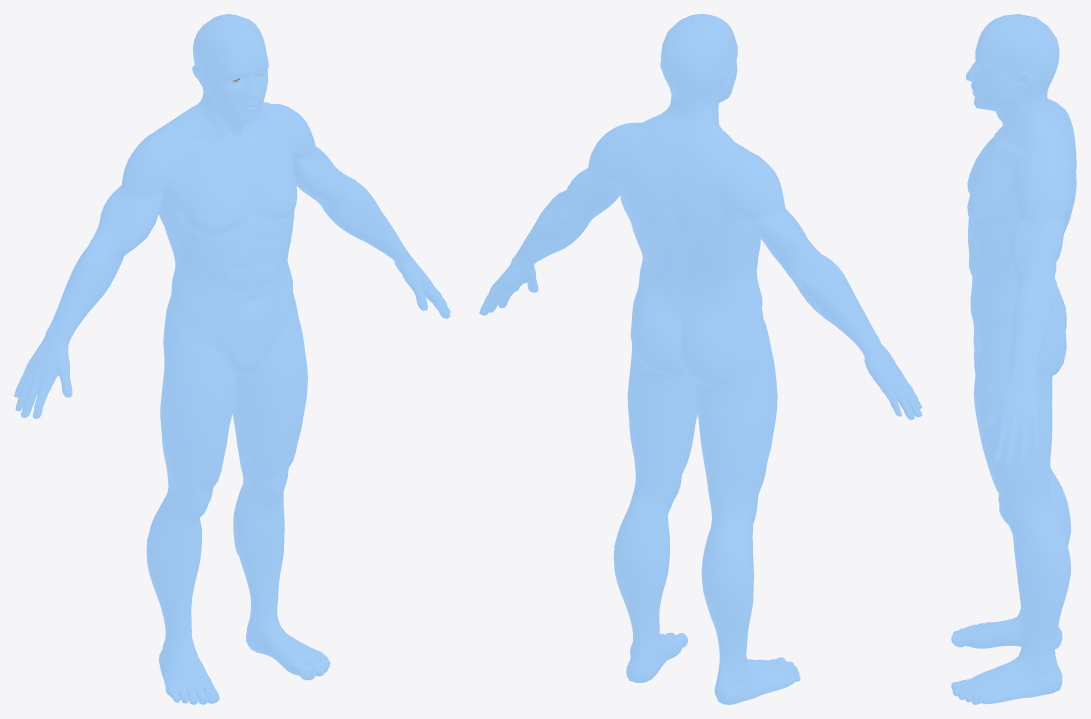
3 renders of one model, left to right at view 1: azimuth 30°, elevation 25°; view 2: azimuth 150°, elevation 25°; view 3: azimuth 270°, elevation 25°, orthographic.
Visible parts, largest first — view 1: skin; view 2: skin; view 3: skin.
Boxes of the visible parts, x1,y1,x2,y2 form: skin: (14,14,450,704); skin: (479,14,922,704); skin: (951,14,1076,704).
Size of the model in its own units: 16.45 by 23.91 by 4.15.
